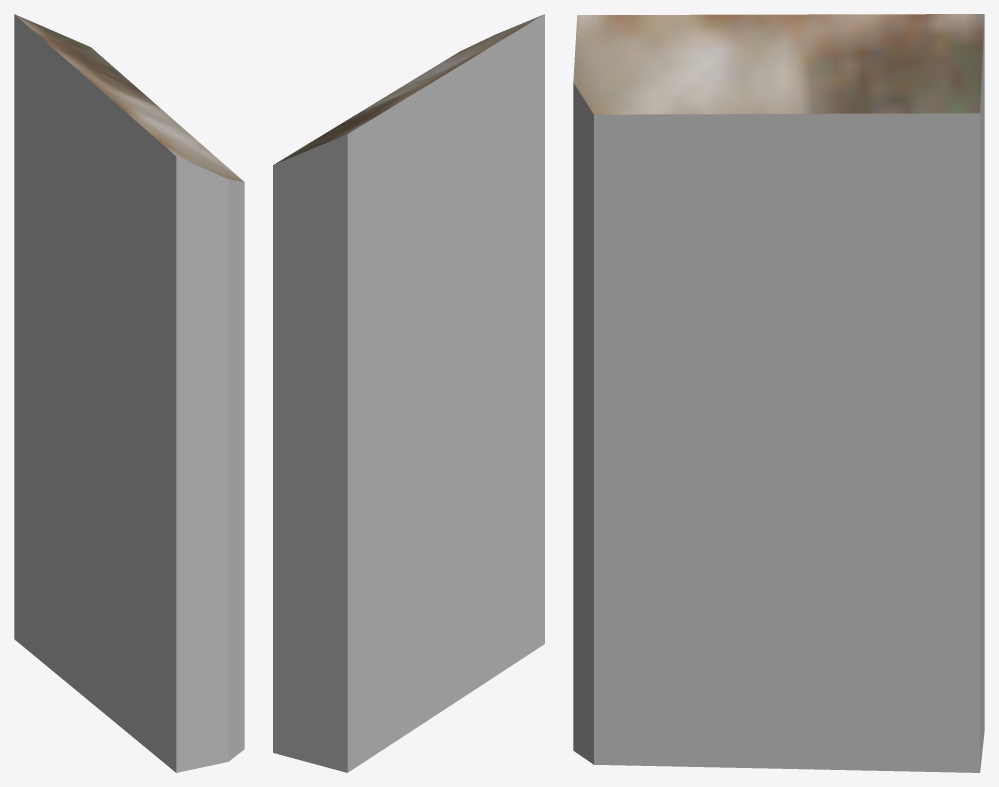
Rendered from DEBW_0010007THY0.gltf.
3 renders of one model, left to right at view 1: azimuth 30°, elevation 25°; view 2: azimuth 150°, elevation 25°; view 3: azimuth 270°, elevation 25°, orthographic. The views are drawn at different scales.
Visible parts, largest first — view 1: Z_UP; view 2: Z_UP; view 3: Z_UP.
Boxes of the visible parts, left/top/right/bottom form: Z_UP: left=14, top=14, right=244, bottom=772; Z_UP: left=273, top=14, right=544, bottom=772; Z_UP: left=573, top=14, right=984, bottom=772.
Bounding box in the file's own units: 1.86 × 12.29 × 6.39.
2 materials, 1 textured.
